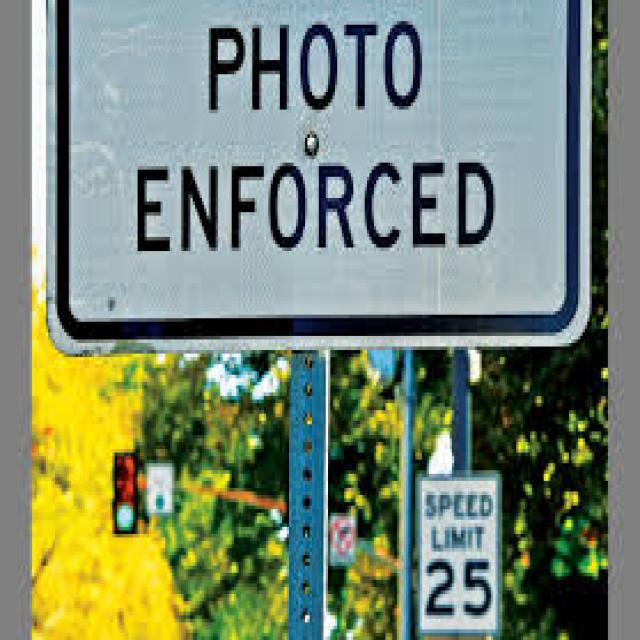speedLimit25: (416, 472, 499, 630)
